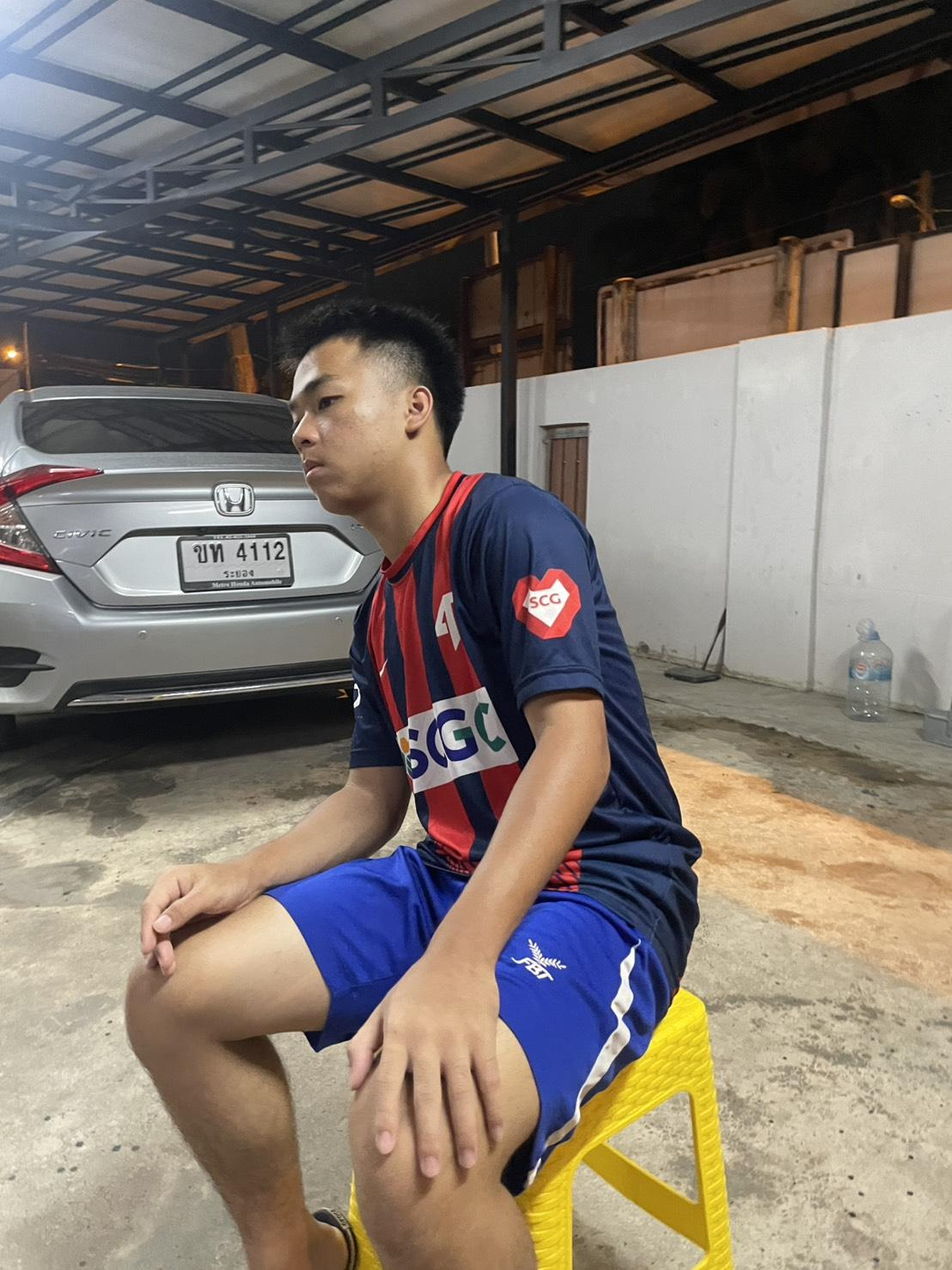BadPosture: (254, 299, 701, 999)
